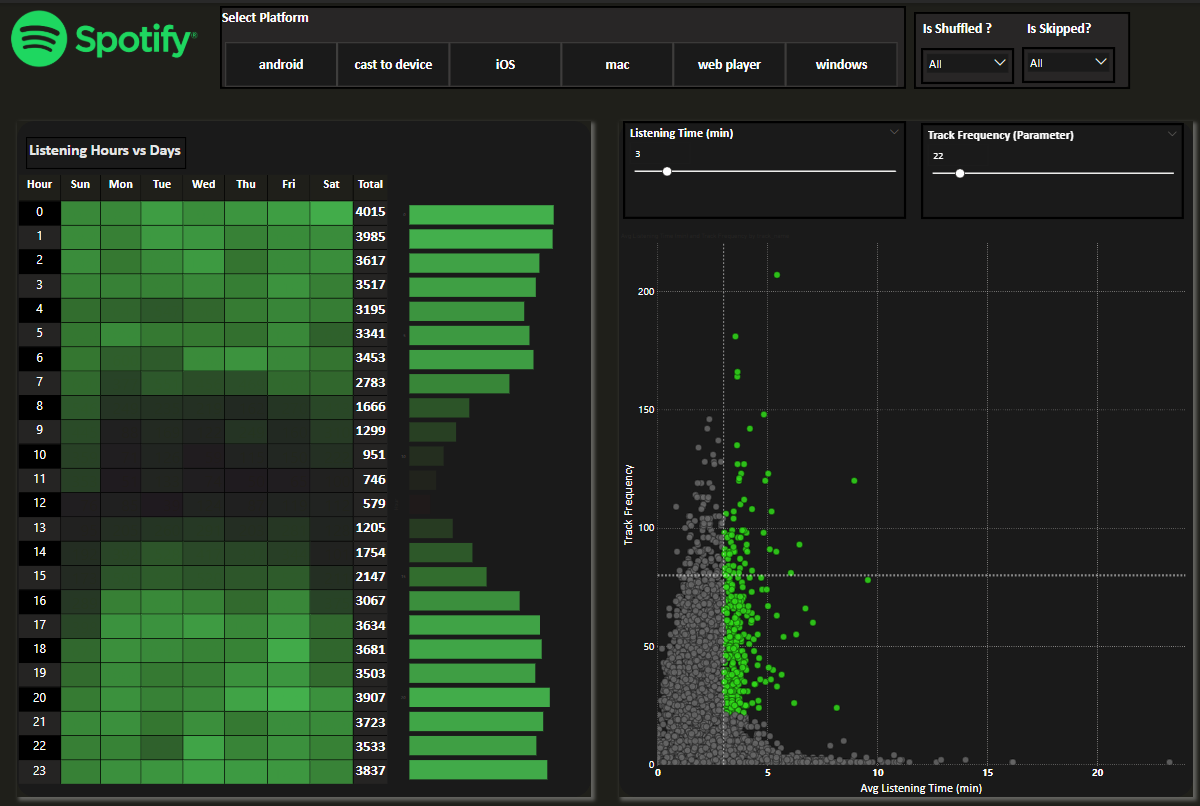

The page's visual inventory and layout, read from the dashboard file:
{"tool":"powerbi","page":{"name":"Listening Patterns","canvas":[3300,2200],"ordinal":1},"visuals":[{"type":"shape","box":[600.2,8.1,1863.2,225.4],"z":0},{"type":"image","box":[0,0,575,200],"z":1000},{"type":"slicer","fields":{"Values":["spotify_history.platform"]},"box":[589.4,100.5,1874.1,133.1],"z":2000},{"type":"shape","box":[48.9,320.5,1559,1836],"z":3000},{"type":"textbox","box":[2254.3,274.3,230.9,89.6],"z":4000},{"type":"textbox","box":[600.2,10.9,274.3,89.6],"z":5000},{"type":"shape","box":[2485.2,24.4,586.7,209.1],"z":6000},{"type":"slicer","fields":{"Values":["spotify_history.shuffle"]},"box":[2504.2,122.2,252.6,97.8],"z":7000},{"type":"slicer","fields":{"Values":["spotify_history.skipped"]},"box":[2778.5,119.5,252.6,97.8],"z":8000},{"type":"textbox","box":[2504.2,40.7,274.3,89.6],"z":9000},{"type":"textbox","box":[2778.5,40.7,274.3,89.6],"z":10000},{"type":"pivotTable","fields":{"Rows":["spotify_history.Hour"],"Columns":["Date Table.Day Name"],"Values":["spotify_history.No of Tracks"]},"box":[48.9,461.7,1026.7,1694.8],"z":11000},{"type":"barChart","fields":{"Category":["spotify_history.Hour"],"Y":["spotify_history.No of Tracks"]},"box":[1064.7,535.1,543.2,1645.9],"z":12000},{"type":"textbox","box":[73.3,364,434.6,86.9],"z":13000},{"type":"shape","box":[1684,320.5,1559,1836],"z":14000},{"type":"scatterChart","fields":{"Category":["spotify_history.track_name"],"Y":["spotify_history.Track Frequency"],"X":["spotify_history.Avg Listening Time (min)"]},"box":[1684,622,1559,1534.6],"z":15000},{"type":"slicer","fields":{"Values":["Listening Time (min).Listening Time (min)"]},"box":[1694.8,320.5,768.6,266.2],"z":16000},{"type":"slicer","fields":{"Values":["Track Frequency (Parameter).Track Frequency (Parameter)"]},"box":[2504.2,325.9,714.3,260.7],"z":17000}]}

Visuals, with their boxes in screenshot pixels (x1, y1, x2, y2), scaled from the page's 3300x2200 canvas onto the 1200x806 screenshot:
shape: <box>218,3,896,86</box>
image: <box>0,0,209,73</box>
slicer - spotify_history.platform: <box>214,37,896,86</box>
shape: <box>18,117,585,790</box>
textbox: <box>820,100,904,133</box>
textbox: <box>218,4,318,37</box>
shape: <box>904,9,1117,86</box>
slicer - spotify_history.shuffle: <box>911,45,1002,81</box>
slicer - spotify_history.skipped: <box>1010,44,1102,80</box>
textbox: <box>911,15,1010,48</box>
textbox: <box>1010,15,1110,48</box>
pivotTable - spotify_history.Hour x Date Table.Day Name: <box>18,169,391,790</box>
barChart - spotify_history.Hour x spotify_history.No of Tracks: <box>387,196,585,799</box>
textbox: <box>27,133,185,165</box>
shape: <box>612,117,1179,790</box>
scatterChart - spotify_history.track_name x spotify_history.Track Frequency: <box>612,228,1179,790</box>
slicer - Listening Time (min).Listening Time (min): <box>616,117,896,215</box>
slicer - Track Frequency (Parameter).Track Frequency (Parameter): <box>911,119,1170,215</box>
